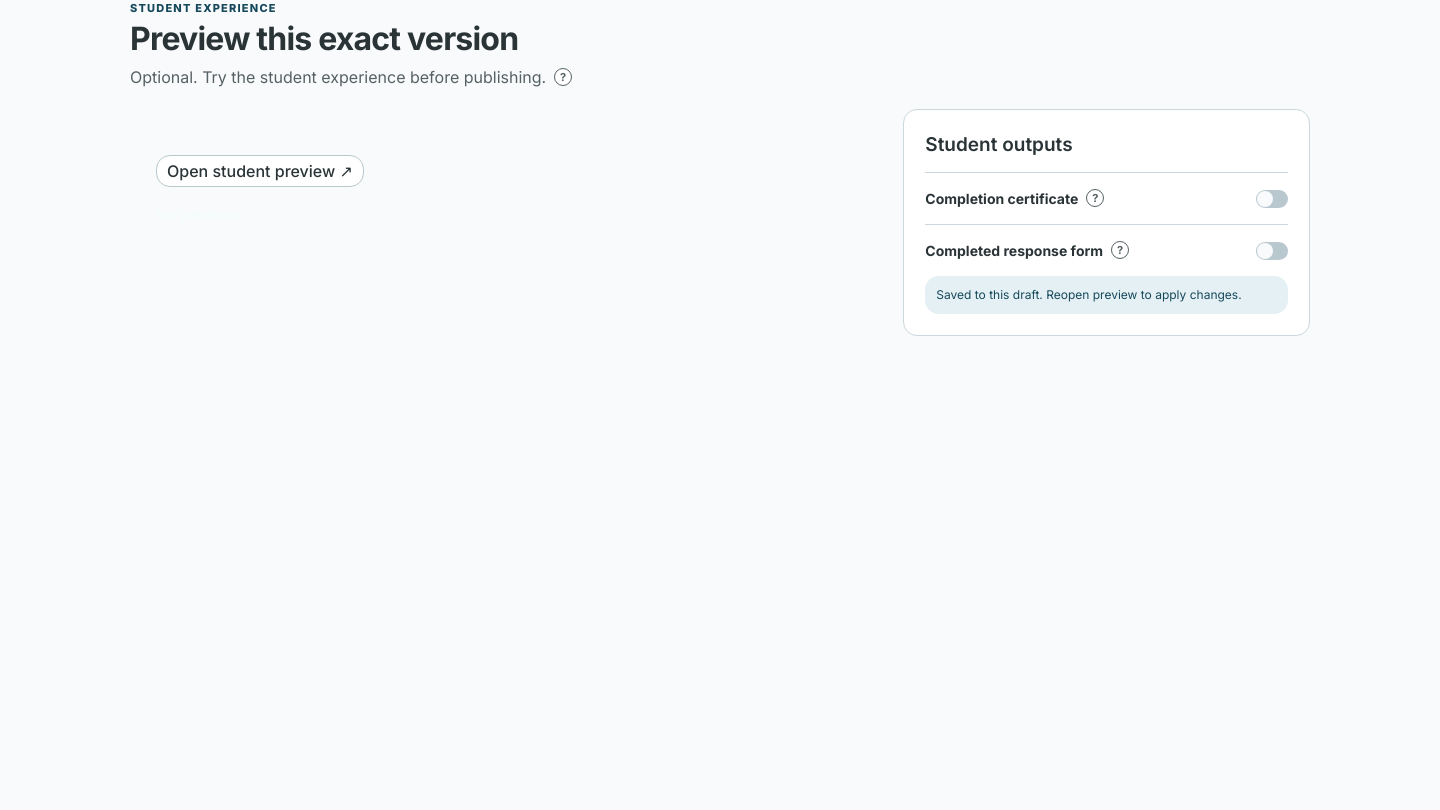
Scenario: opens student-output help without changing the output setting
Click the button named "About Completion certificate": (1095, 198) [1086,189,1104,207]
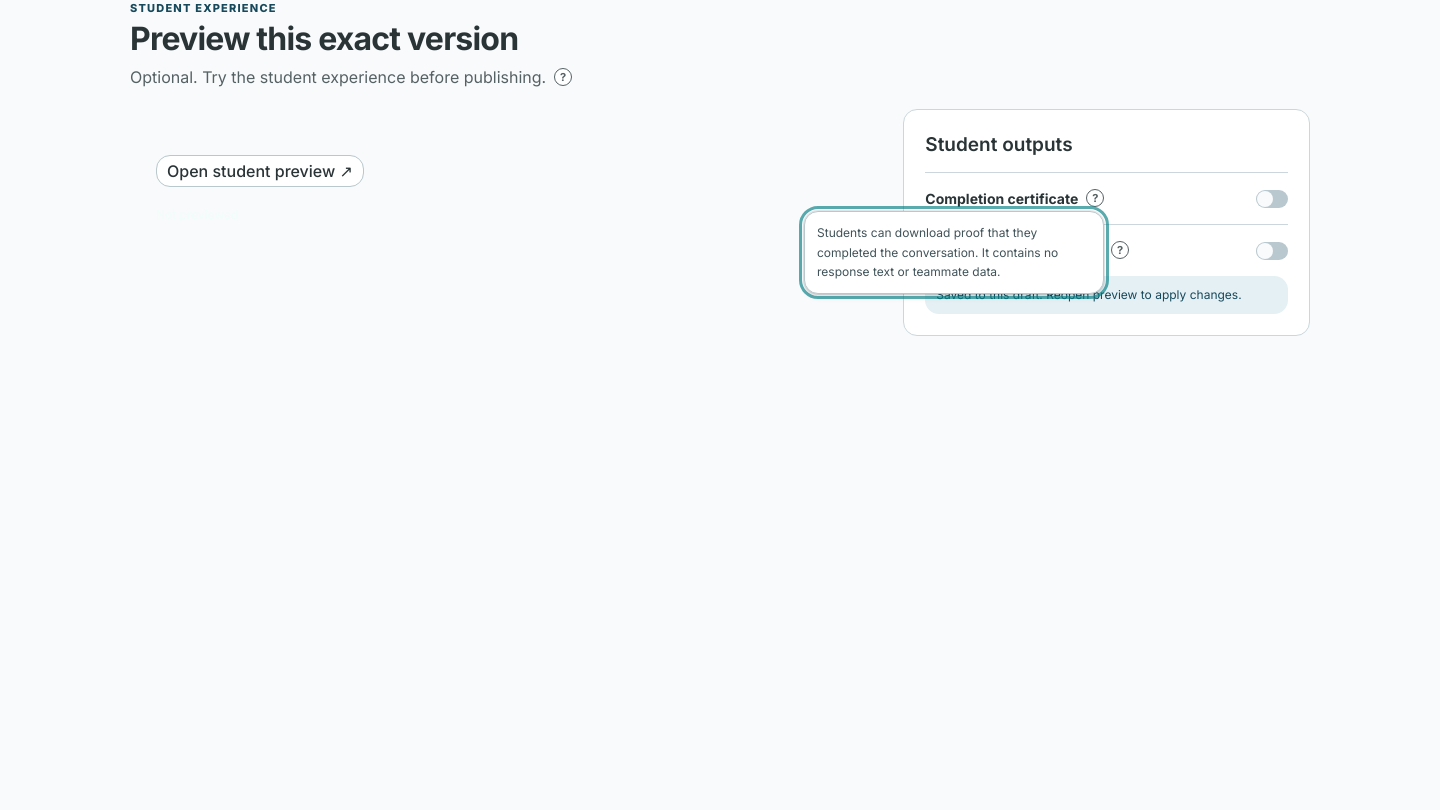
Now the text "contains no response text or teammate data" is shown, box [817,225,1058,279]
